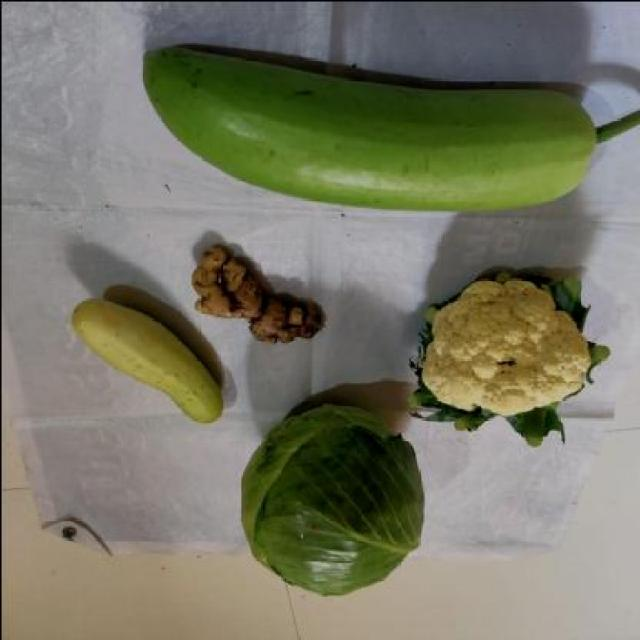Cabbage: (223, 389, 437, 606)
Calabash: (120, 40, 640, 225)
Cauliflower: (404, 260, 616, 440)
Ginger: (181, 235, 337, 352)
cucumber: (57, 292, 240, 432)
